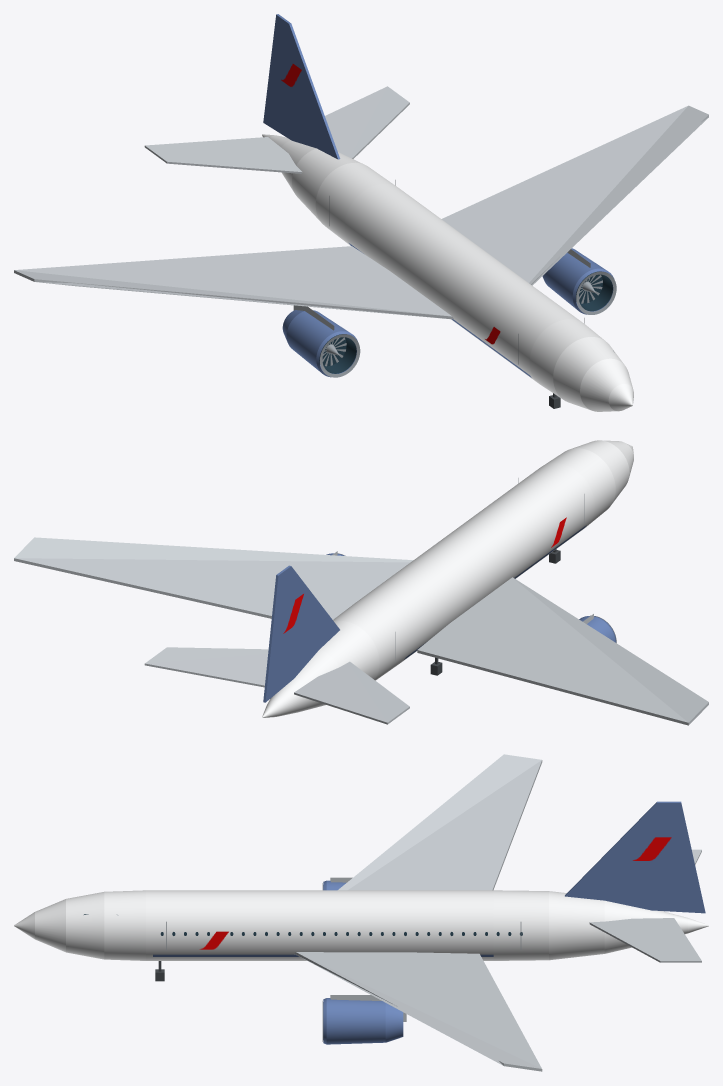
File: b788-AFR-v3.gltf
3 views of the same model, one above another, from view 1: azimuth 30°, elevation 25°; view 2: azimuth 150°, elevation 25°; view 3: azimuth 270°, elevation 25° (orthographic). The views are drawn at different scales.
Parts seen in each view (by area): view 1: object 1; view 2: object 1; view 3: object 1.
Part boxes in pixels (x1,y1,x2,y2): object 1: (14, 14, 708, 411); object 1: (14, 440, 708, 725); object 1: (14, 754, 708, 1071).
Bounding box in the file's own units: 60 × 16.41 × 57.
8 materials, 1 textured.
